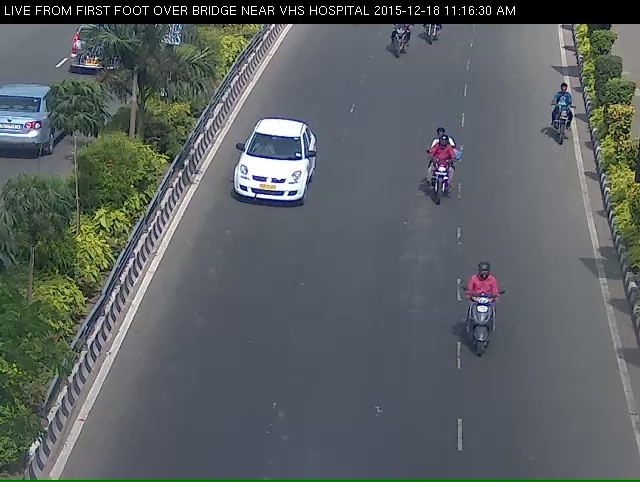Car: (227, 124, 313, 226)
Person: (458, 286, 510, 379), (414, 141, 463, 218), (547, 81, 583, 145), (382, 21, 409, 63)
